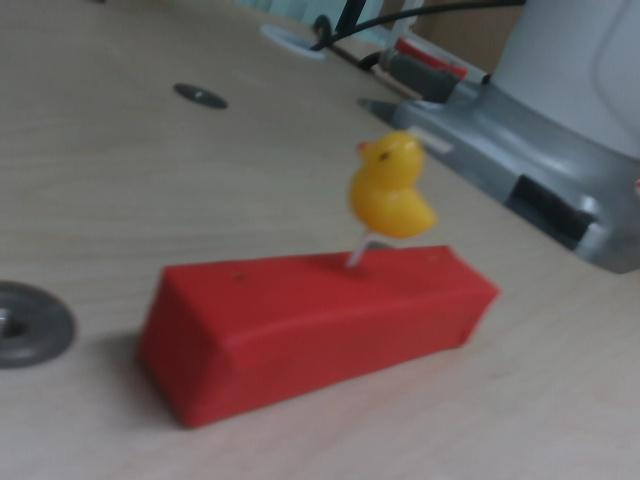y_duck: (332, 123, 446, 262)
